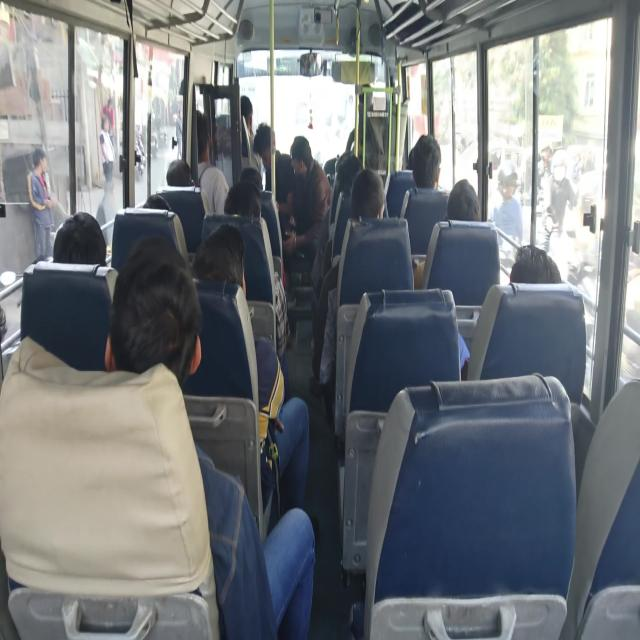person: (0, 236, 221, 638), (105, 236, 316, 638), (192, 222, 310, 516), (311, 167, 387, 392), (279, 135, 332, 266), (252, 122, 295, 216), (195, 109, 229, 215), (27, 146, 57, 259), (52, 211, 106, 266), (490, 160, 523, 249), (96, 115, 116, 224), (509, 244, 561, 284), (406, 134, 442, 190), (240, 95, 263, 181), (446, 178, 480, 221), (166, 159, 194, 186)
